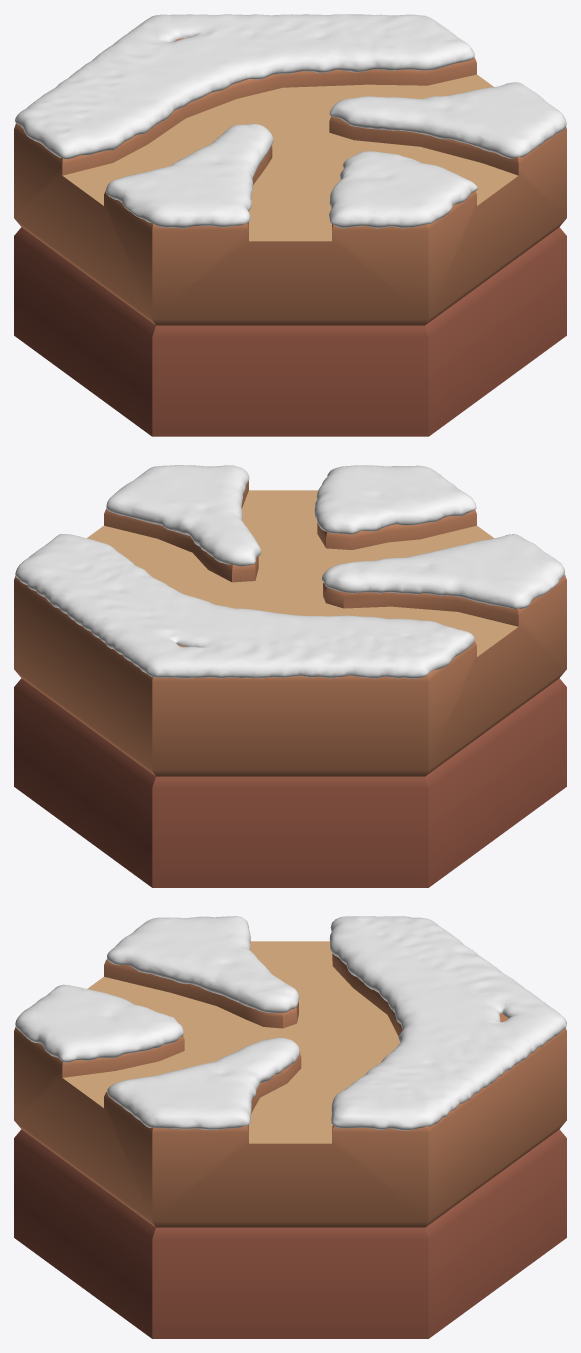
The model's file is hex_rock_roadK_detail.fbx.
The picture shows the model from 3 angles, top to bottom: view 1: azimuth 30°, elevation 25°; view 2: azimuth 150°, elevation 25°; view 3: azimuth 270°, elevation 25°; orthographic projection.
Parts seen in each view (by area): view 1: hex_rock_roadK_detail.002, hex_rock_roadK_detail.001, SnowBall.001, hex_rock_roadK_detail; view 2: hex_rock_roadK_detail.002, hex_rock_roadK_detail.001, SnowBall.001, hex_rock_roadK_detail; view 3: hex_rock_roadK_detail.002, hex_rock_roadK_detail.001, SnowBall.001, hex_rock_roadK_detail.
Part boxes in pixels (box(x1,y1,x2,y2)): hex_rock_roadK_detail.002: box(14, 227, 566, 436); hex_rock_roadK_detail.001: box(14, 38, 566, 325); SnowBall.001: box(15, 14, 566, 228); hex_rock_roadK_detail: box(63, 74, 517, 241); hex_rock_roadK_detail.002: box(14, 678, 566, 887); hex_rock_roadK_detail.001: box(14, 481, 566, 776); SnowBall.001: box(15, 465, 564, 678); hex_rock_roadK_detail: box(87, 490, 518, 656); hex_rock_roadK_detail.002: box(14, 1129, 566, 1338); hex_rock_roadK_detail.001: box(14, 953, 566, 1227); SnowBall.001: box(15, 916, 566, 1130); hex_rock_roadK_detail: box(63, 941, 399, 1143).
Size of the model in its own units: 203 by 104 by 231.
